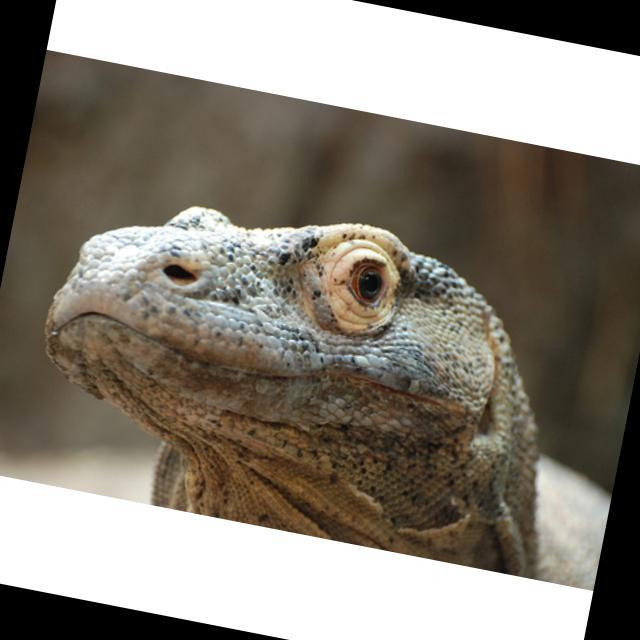KomodoDragon: (15, 164, 640, 587)
